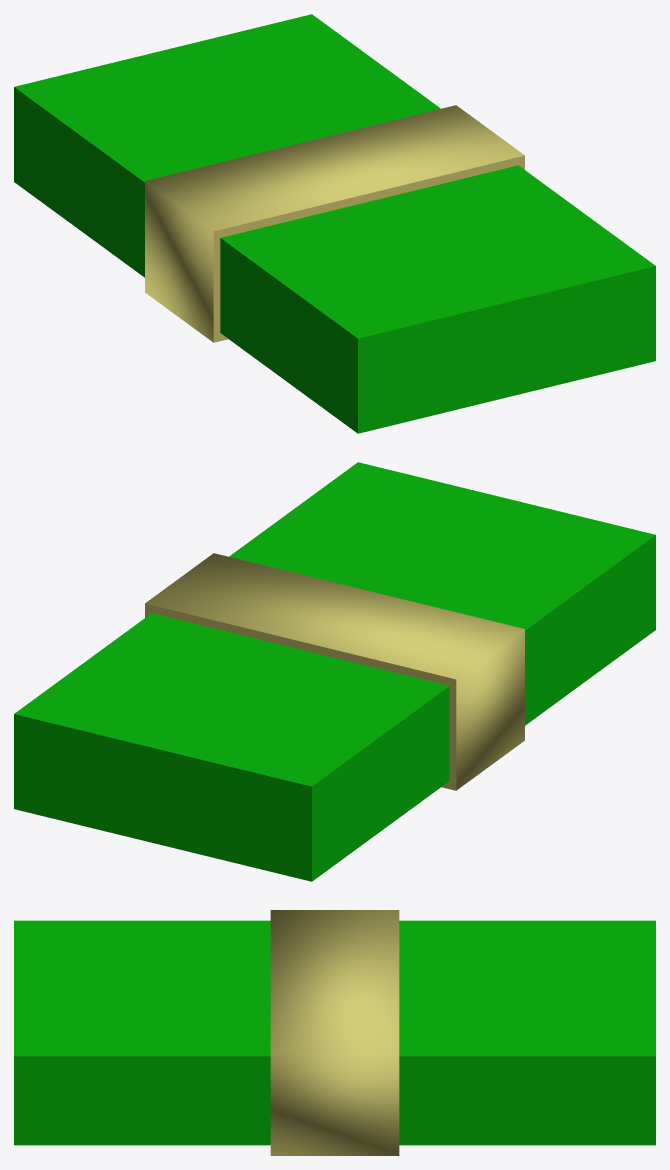
File: MoneyBills.fbx
3 views of the same model, one above another, from view 1: azimuth 30°, elevation 25°; view 2: azimuth 150°, elevation 25°; view 3: azimuth 270°, elevation 25° (orthographic). The views are drawn at different scales.
Parts seen in each view (by area): view 1: Money; view 2: Money; view 3: Money.
Boxes of the visible parts, left/top/right/bottom form: Money: left=14, top=14, right=655, bottom=433; Money: left=14, top=462, right=655, bottom=881; Money: left=14, top=910, right=655, bottom=1155.
Size of the model in its own units: 104 by 35.74 by 200.
